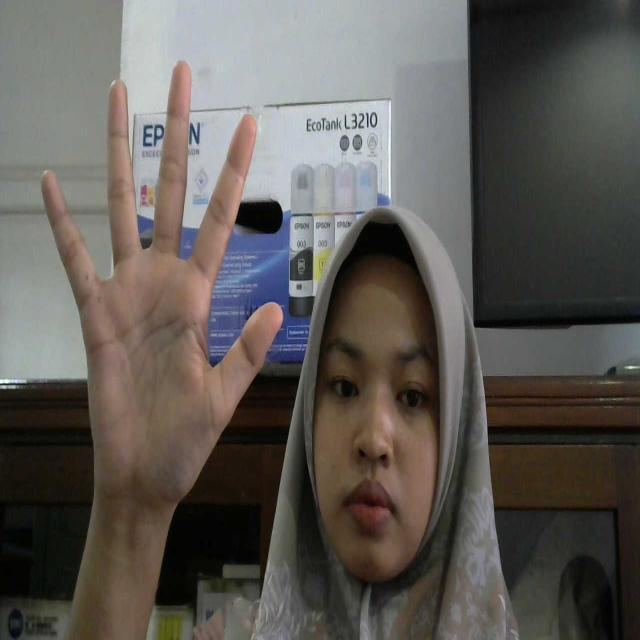hand: (42, 59, 286, 510)
